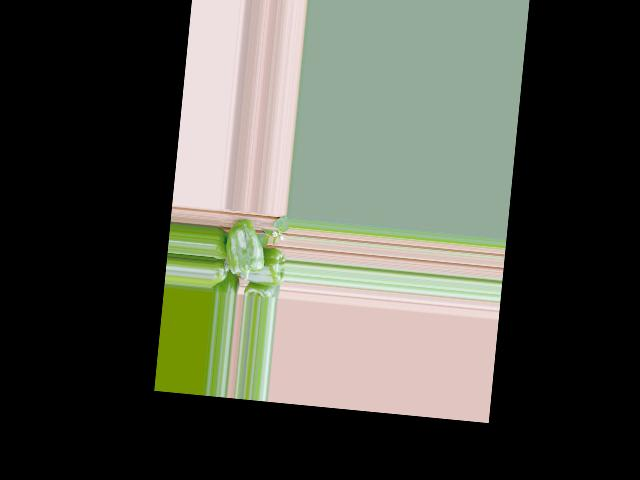bell_pepper: (210, 263, 230, 290)
